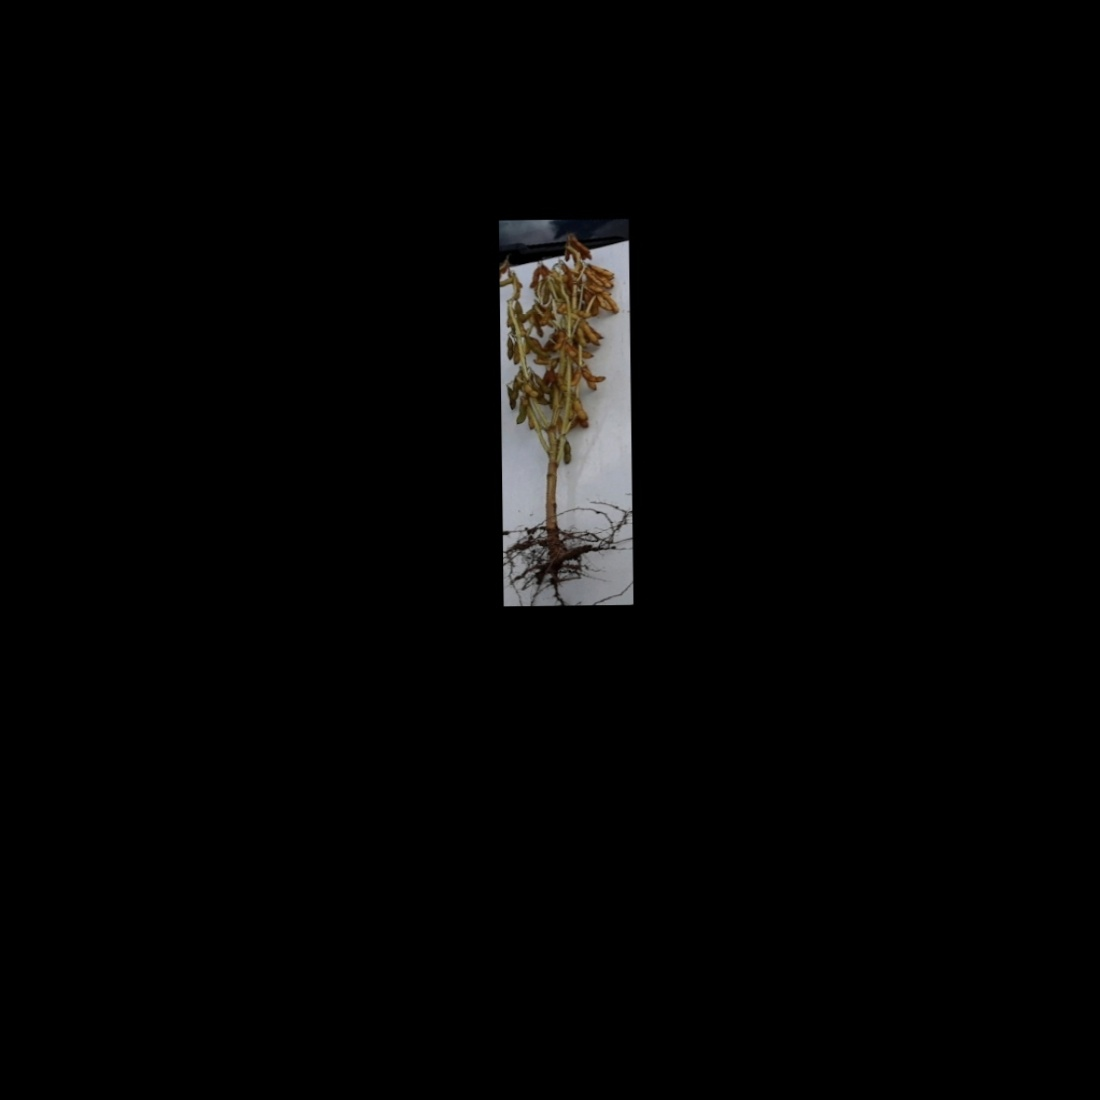pod: (521, 333, 554, 363), (582, 319, 603, 348), (568, 395, 587, 423), (578, 370, 609, 383), (587, 263, 616, 275), (605, 292, 620, 315), (562, 440, 573, 466)
soy: (501, 231, 629, 593)
